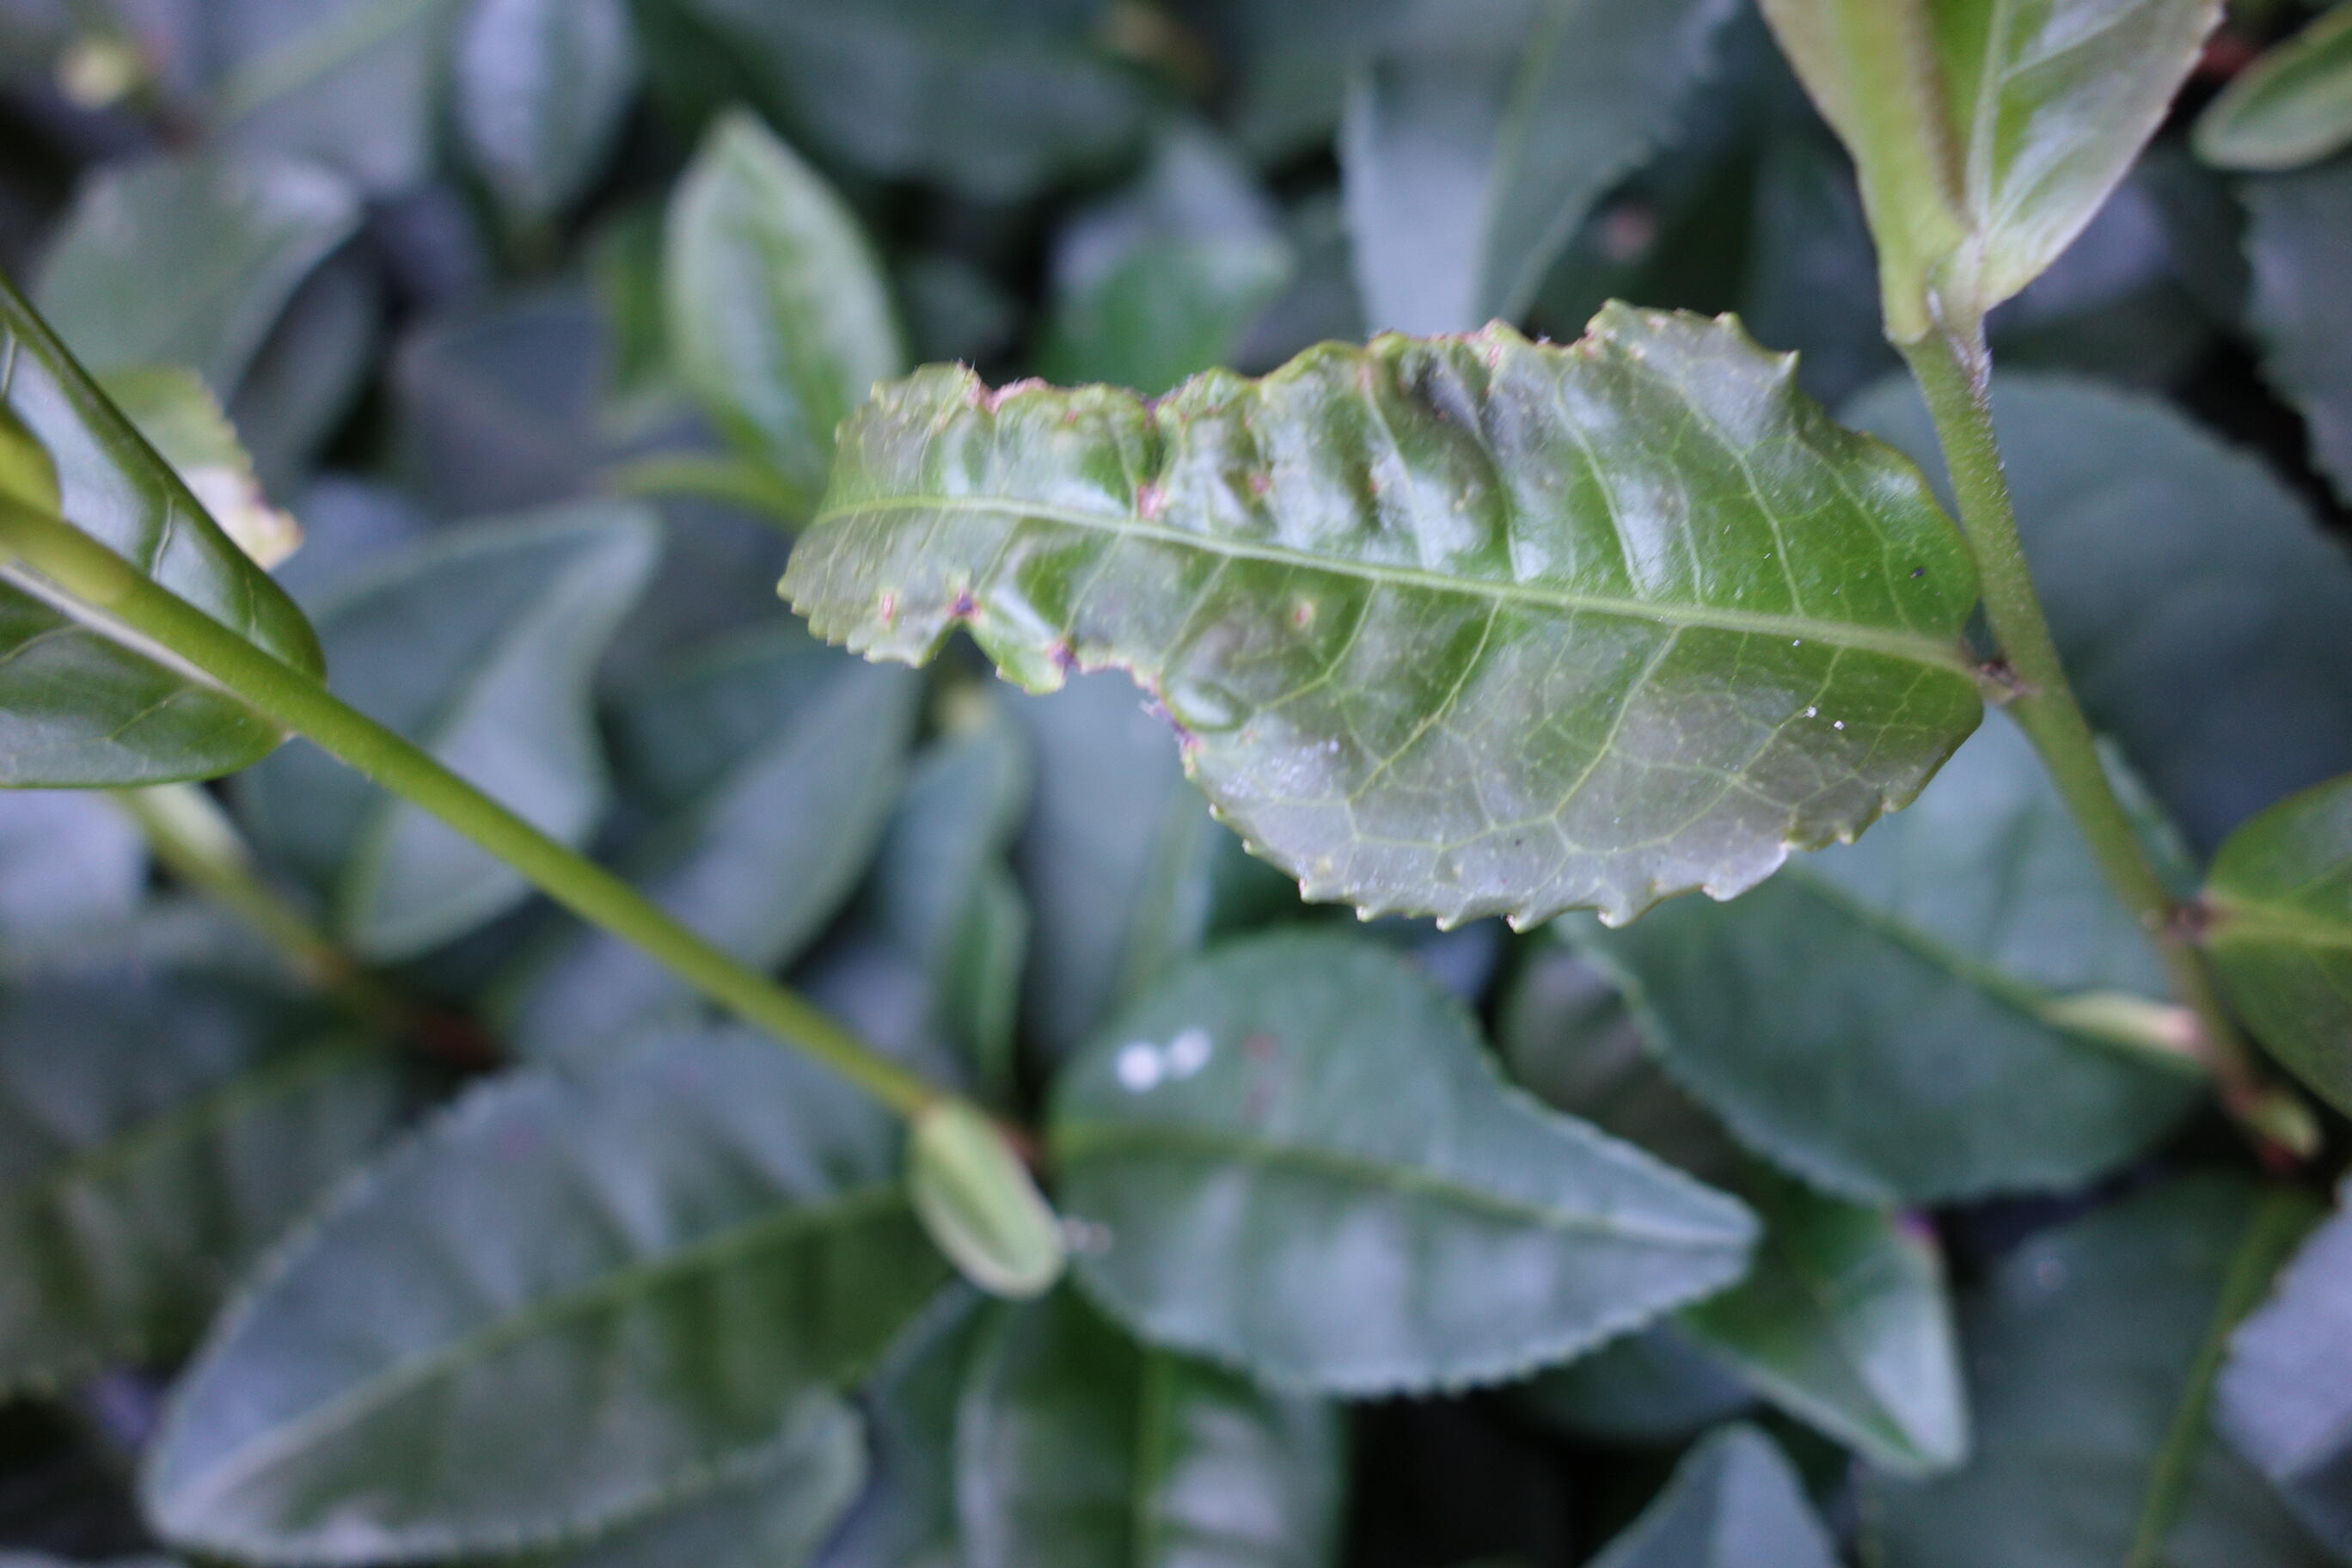chihuo_high: (772, 310, 1983, 940)
